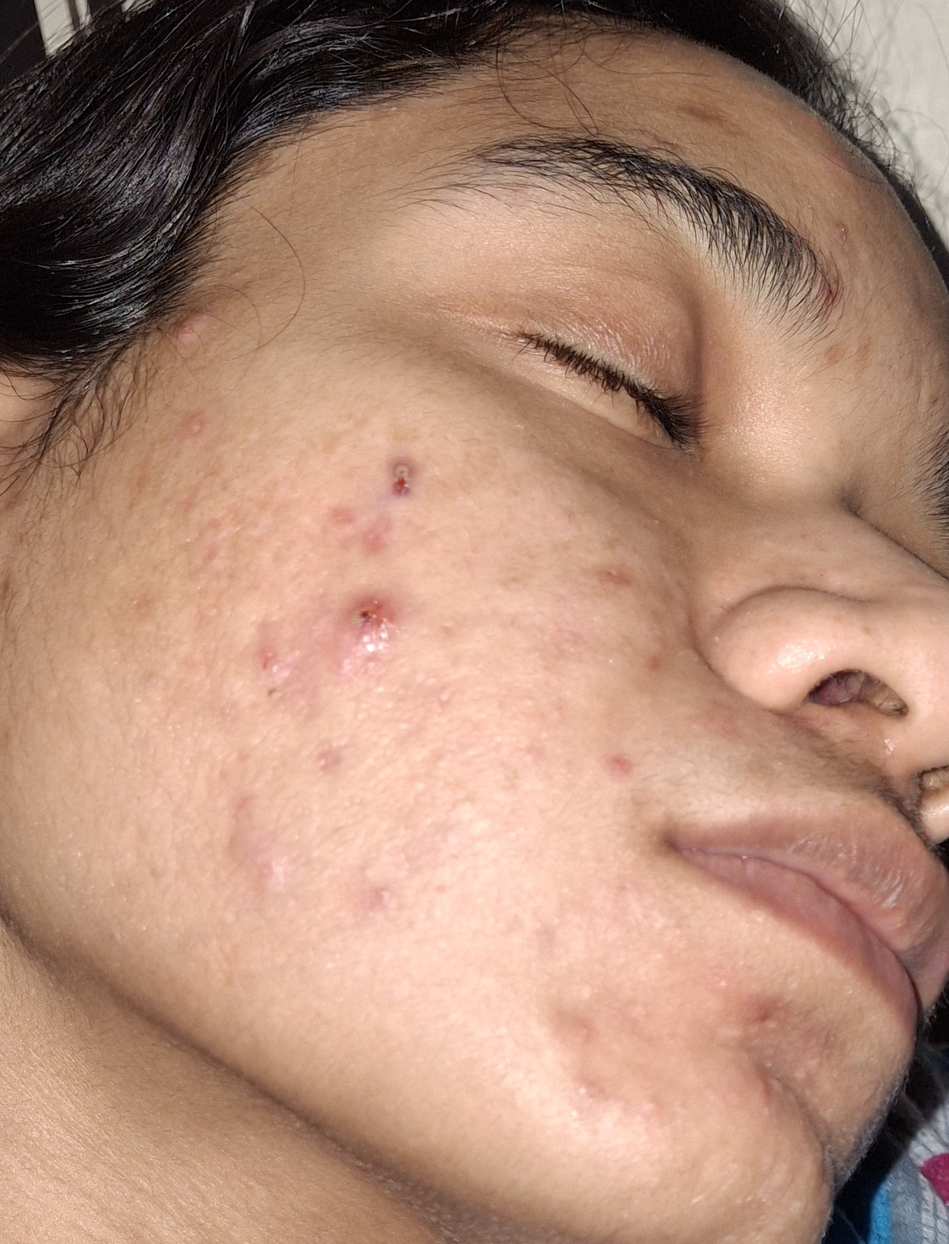cyst: (335, 588, 405, 687), (245, 648, 316, 697)
nodule: (236, 838, 325, 912), (167, 305, 253, 362)
papule: (345, 861, 415, 929), (548, 1056, 635, 1107), (596, 740, 667, 802), (162, 393, 228, 451)
